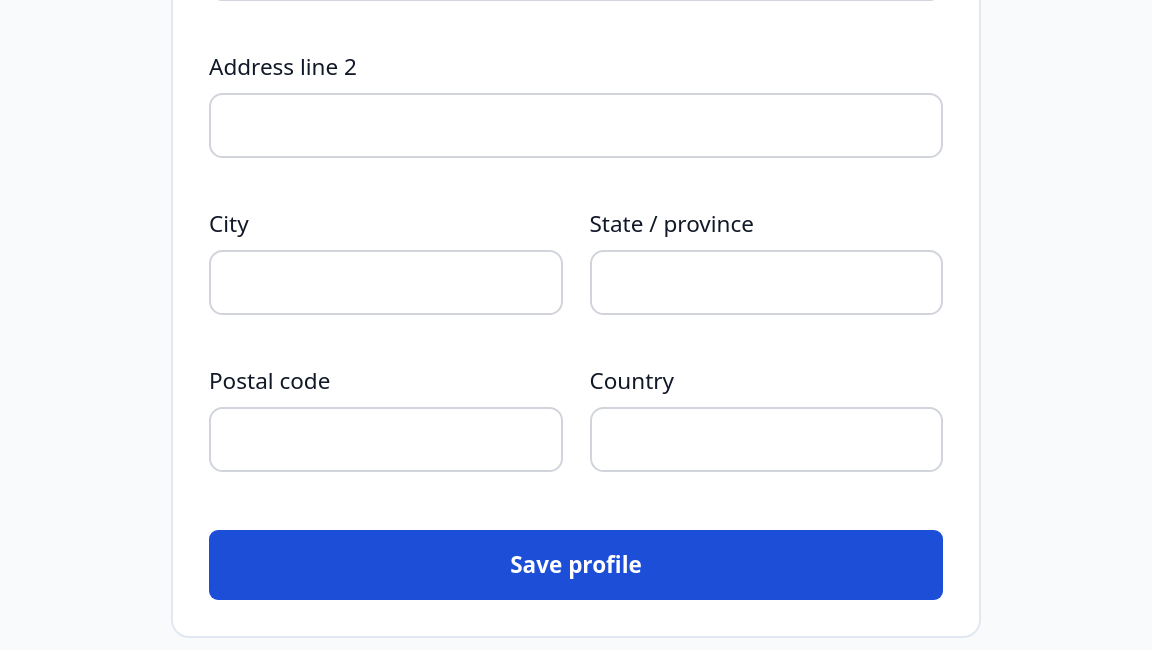
Test: ProfilePage › blocks submission and shows an inline error when full name is cleared
(page scrolled)
Click the button "Save profile" at (576, 565), box [209,530,943,600]
(page scrolled)
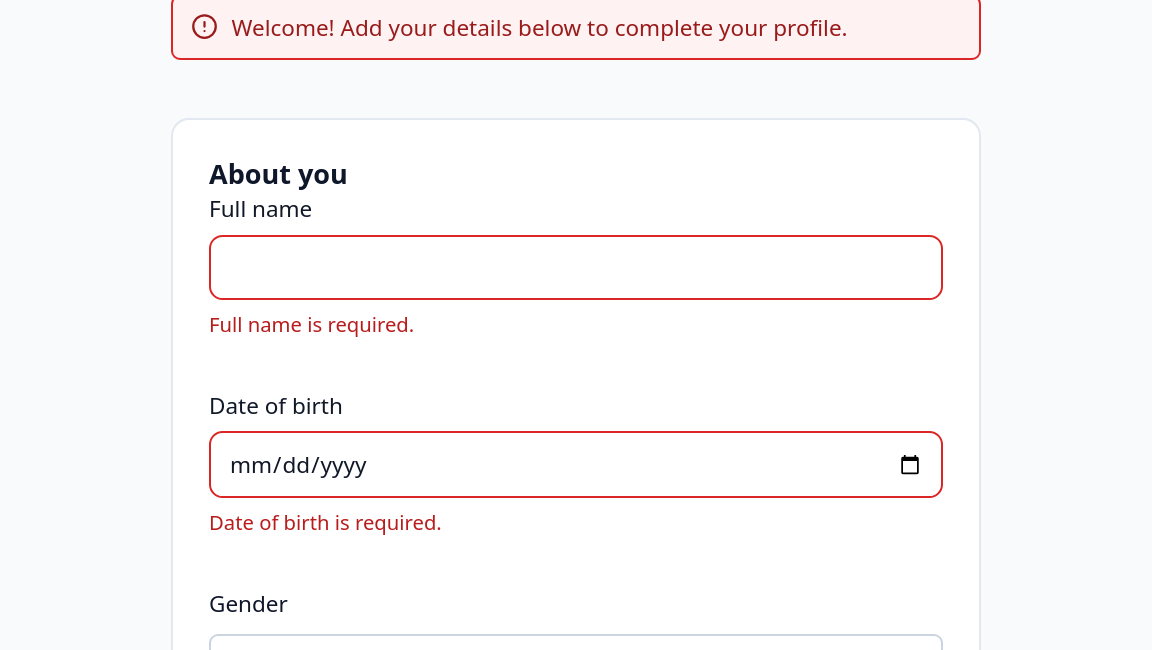
Check: the text "Full name is required." is shown, box [209,310,414,338]
